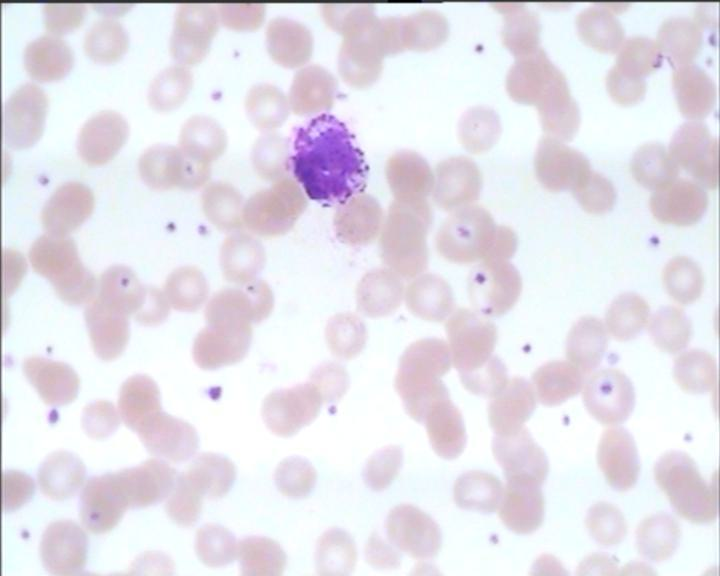baso: (276, 109, 372, 210)
